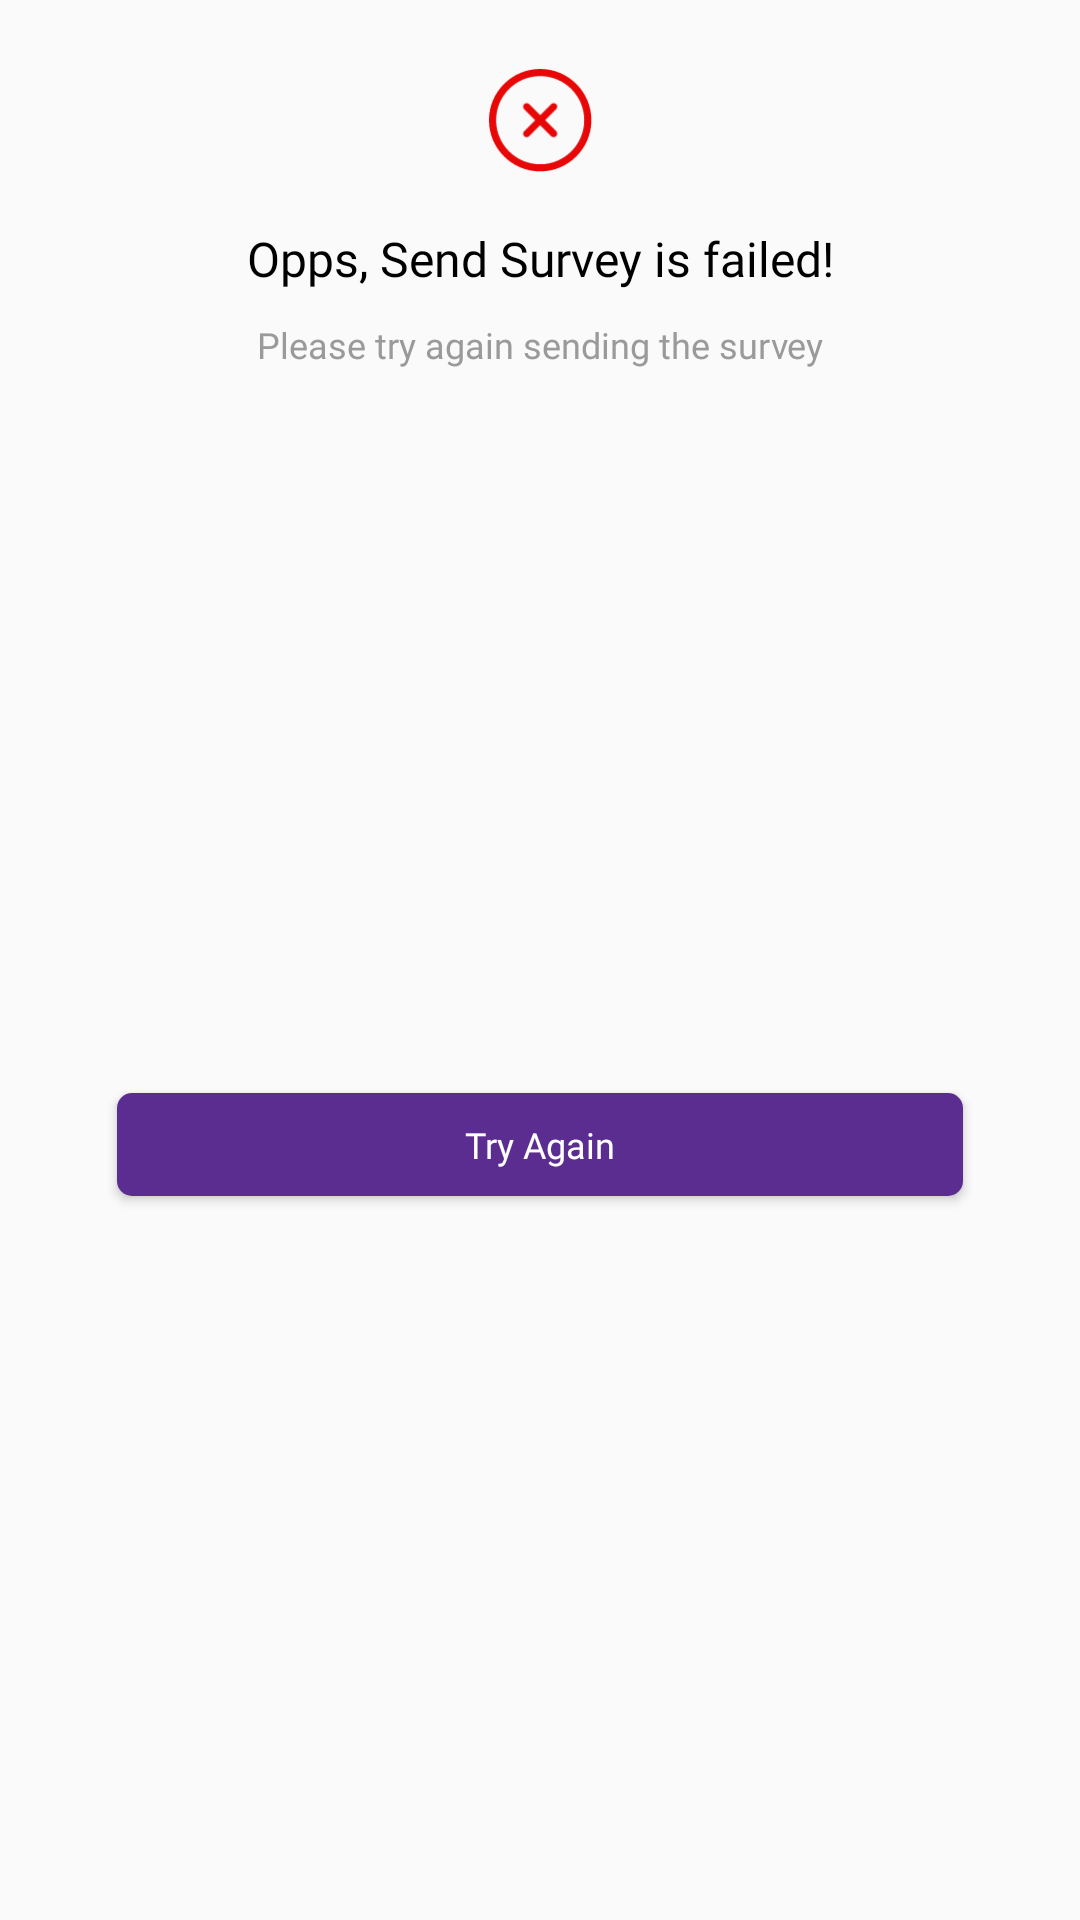

Screen size 1080 × 1920. Icon name, then its box in pixels as (x1, y1, x2, y2):
error: (489, 69, 592, 172)
